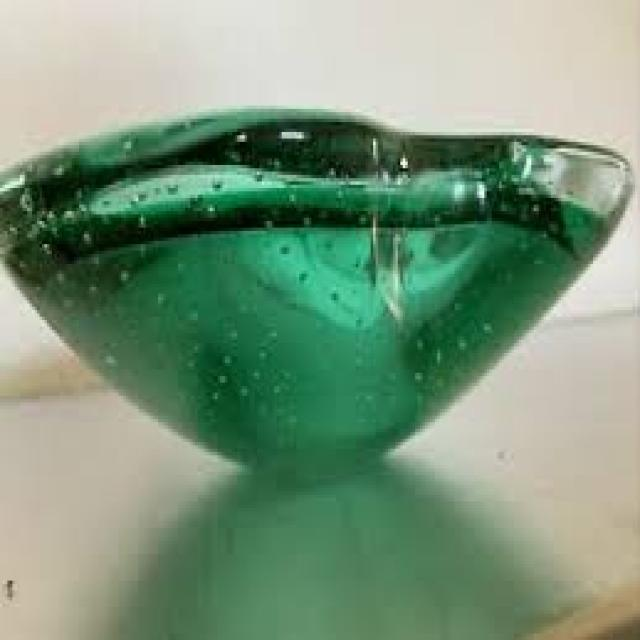glass: (0, 106, 630, 472)
